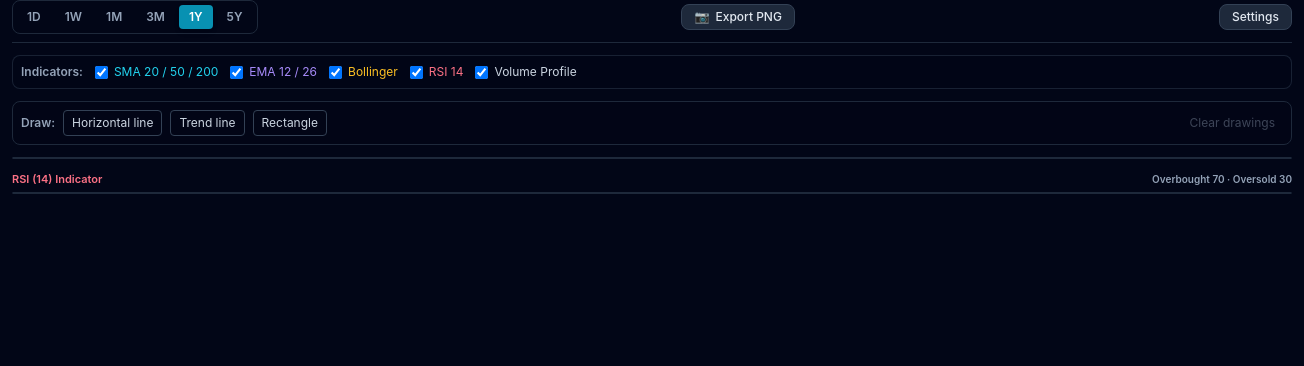
Test: StockChart › changes timeframe, toggles indicators, and exposes settings
The image size is (1304, 366).
Step 1. Click the button "1M" → (114, 17), box top-left (96, 5), bottom-right (132, 29)
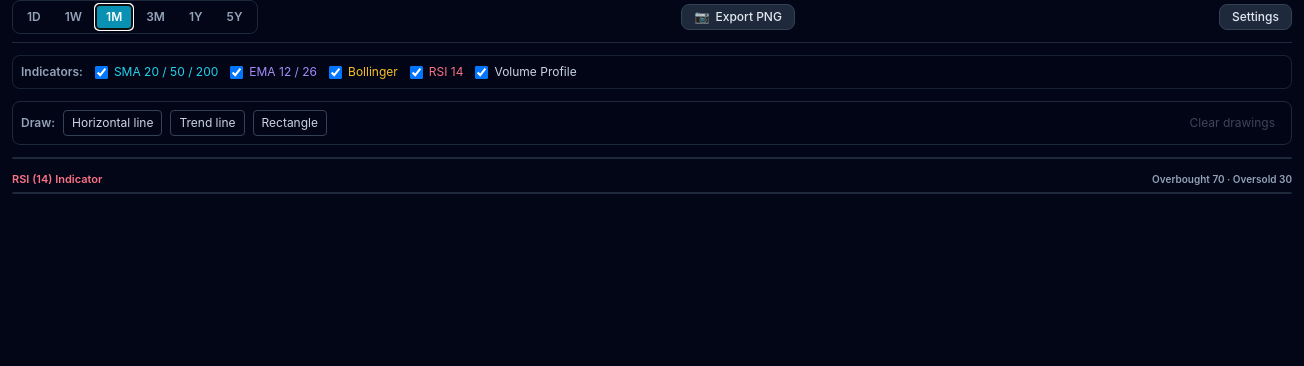
Now the button "1M" has class "bg-cyan-600", box top-left (96, 5), bottom-right (132, 29)
Step 2. Click the checkbox labelled "RSI 14" → (416, 72), box top-left (410, 66), bottom-right (423, 78)
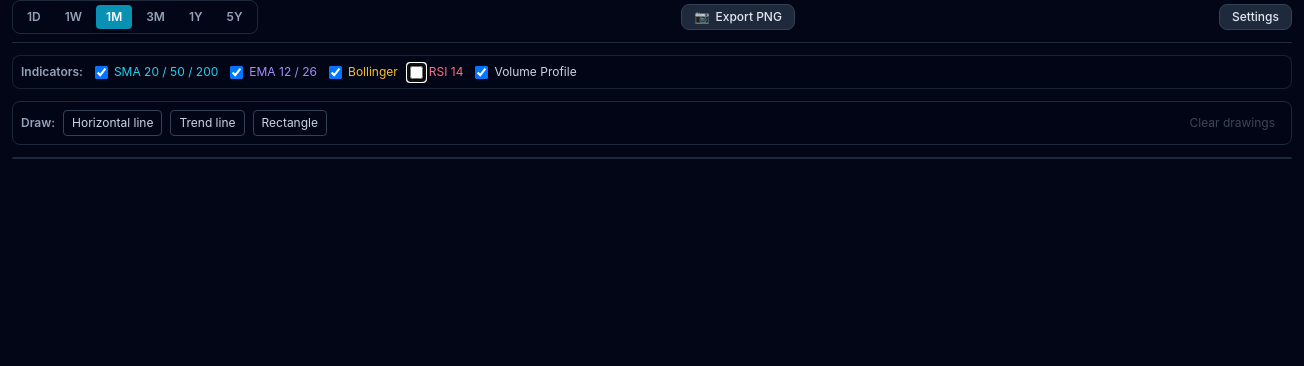
Now the text "RSI (14) Indicator" is gone
Step 3. Click the button "Settings" → (1255, 17), box top-left (1219, 4), bottom-right (1292, 30)
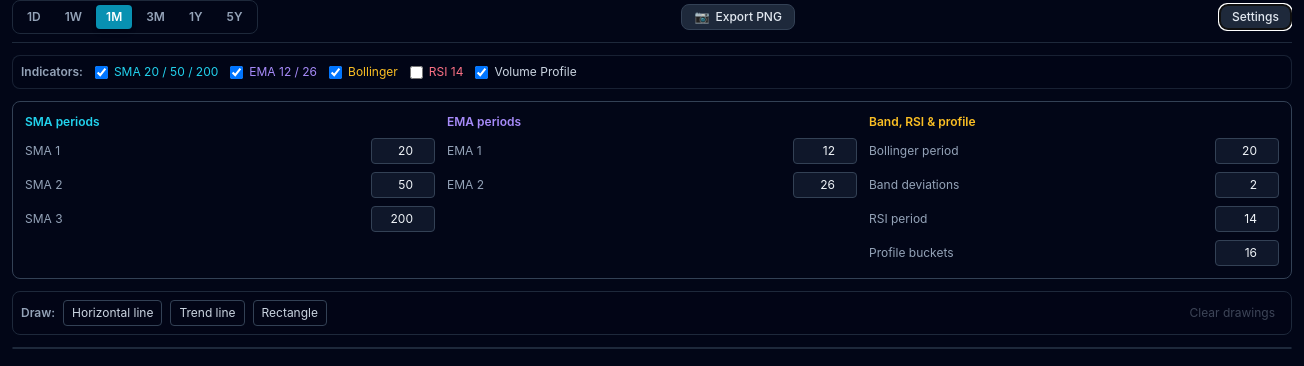
Now the number field labelled "SMA 1" holds "20", box top-left (371, 138), bottom-right (435, 164)
